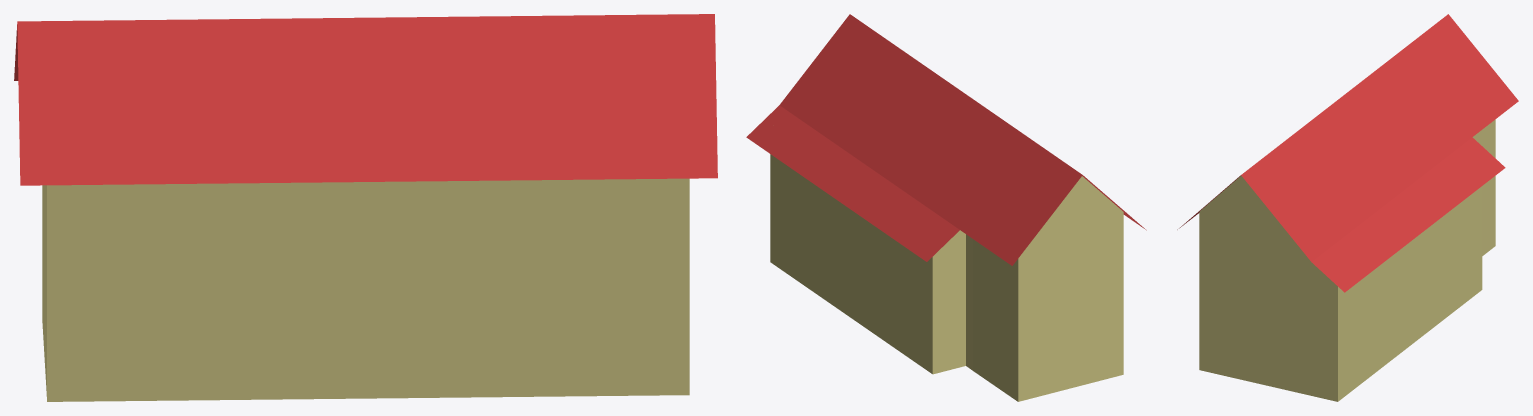
The picture shows the model from 3 angles, left to right: view 1: azimuth 30°, elevation 25°; view 2: azimuth 150°, elevation 25°; view 3: azimuth 270°, elevation 25°; orthographic projection. The views are drawn at different scales.
Bounding box in the file's own units: 20.73 × 15.03 × 10.29.
